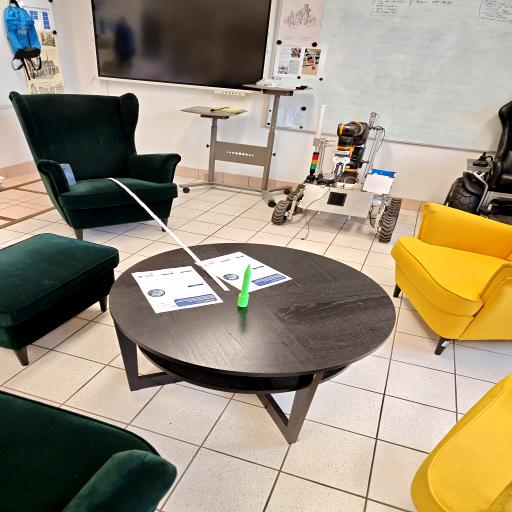Probe-Detection: (237, 264, 251, 307)
